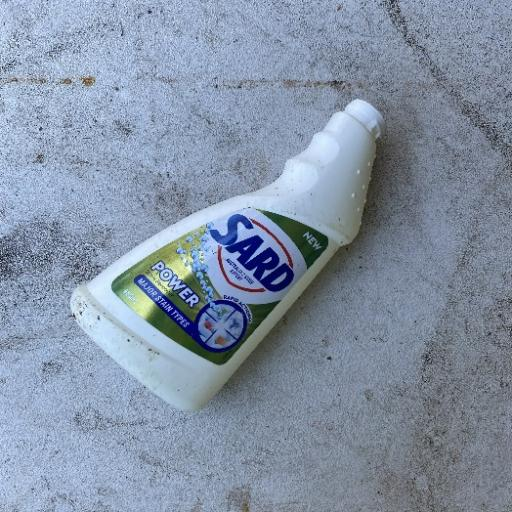Plastic: (67, 96, 388, 413)
